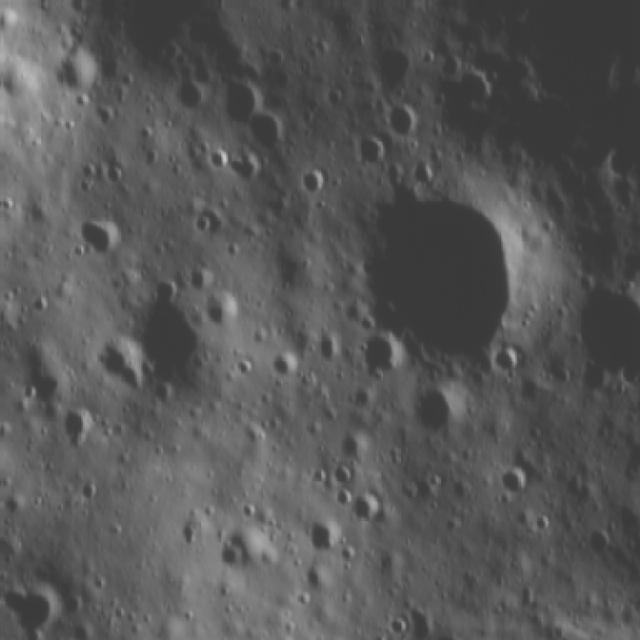crater: (346, 187, 534, 368), (128, 282, 225, 395), (558, 276, 640, 398), (16, 327, 64, 419), (88, 329, 146, 396), (72, 203, 132, 263), (597, 131, 640, 214), (406, 382, 469, 438), (2, 581, 64, 637), (556, 509, 616, 560), (240, 104, 291, 156), (351, 328, 403, 378), (58, 398, 98, 462), (3, 45, 45, 103), (444, 60, 496, 106), (218, 72, 264, 120), (293, 513, 344, 556), (58, 44, 94, 102), (349, 482, 389, 529), (375, 48, 417, 90), (382, 101, 418, 148), (207, 537, 251, 575), (172, 72, 208, 117), (349, 127, 389, 165), (264, 340, 299, 380), (488, 345, 526, 380), (208, 289, 244, 325), (334, 427, 369, 462), (497, 464, 529, 502), (98, 158, 134, 190), (312, 328, 341, 362), (403, 160, 440, 186), (378, 608, 412, 635), (72, 155, 94, 191)
